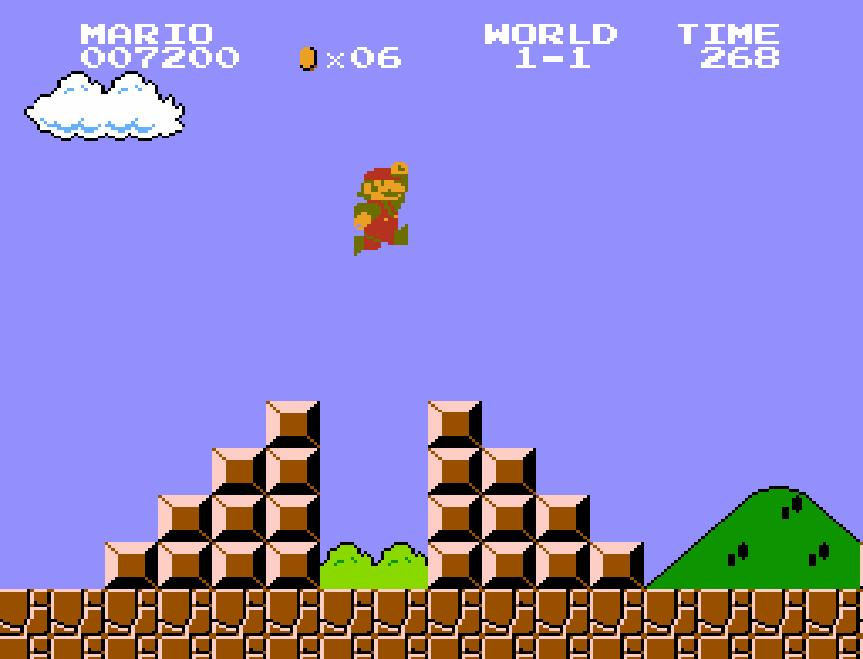big_mario: (352, 160, 410, 258)
